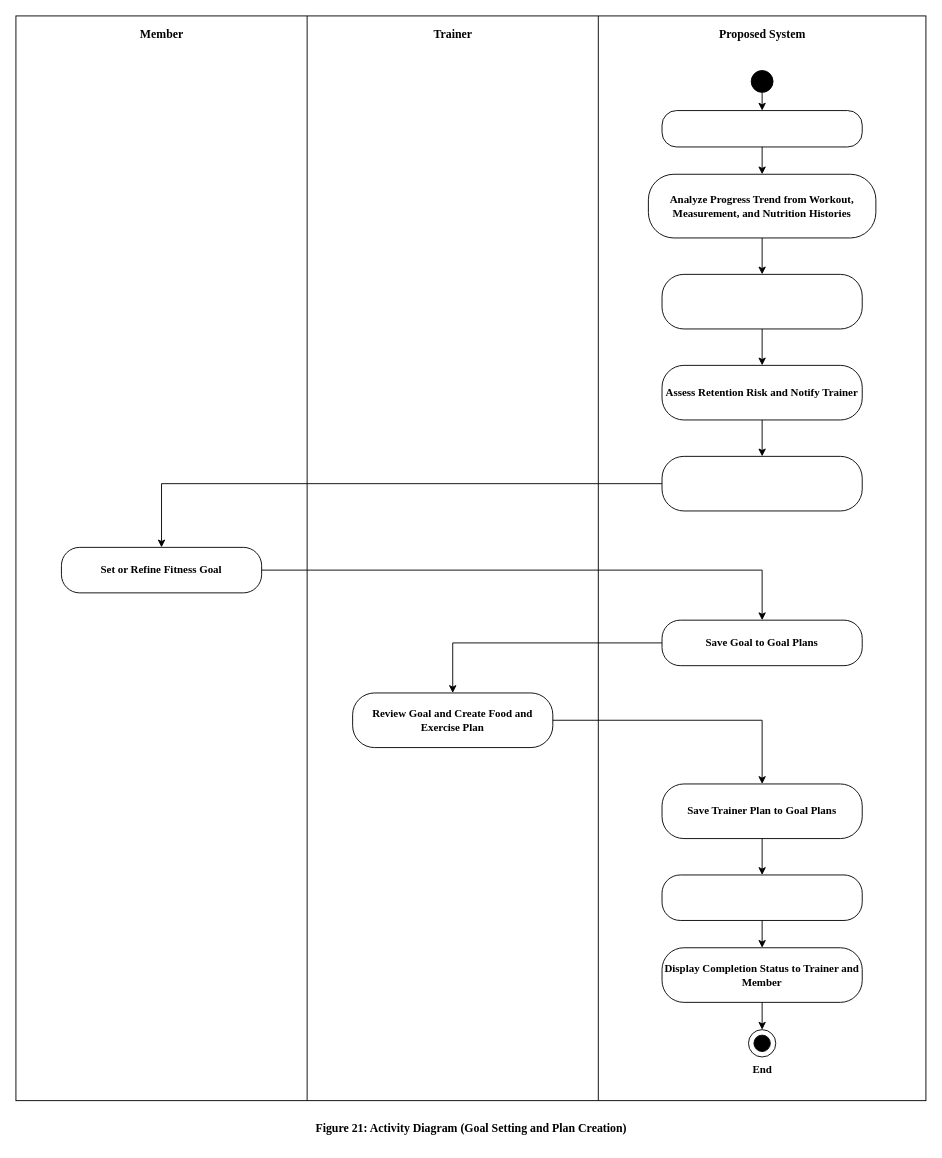
Image size: 942x1158. Some labels were removed from this diagram. Each missing label, with the box of its shape:
Display Predicted Progress to Member: (661, 455, 862, 511)
Generate Predicted Fitness Progress: (661, 273, 862, 329)
Monitor Plan Completion: (661, 874, 862, 920)
Start: (661, 110, 862, 147)
